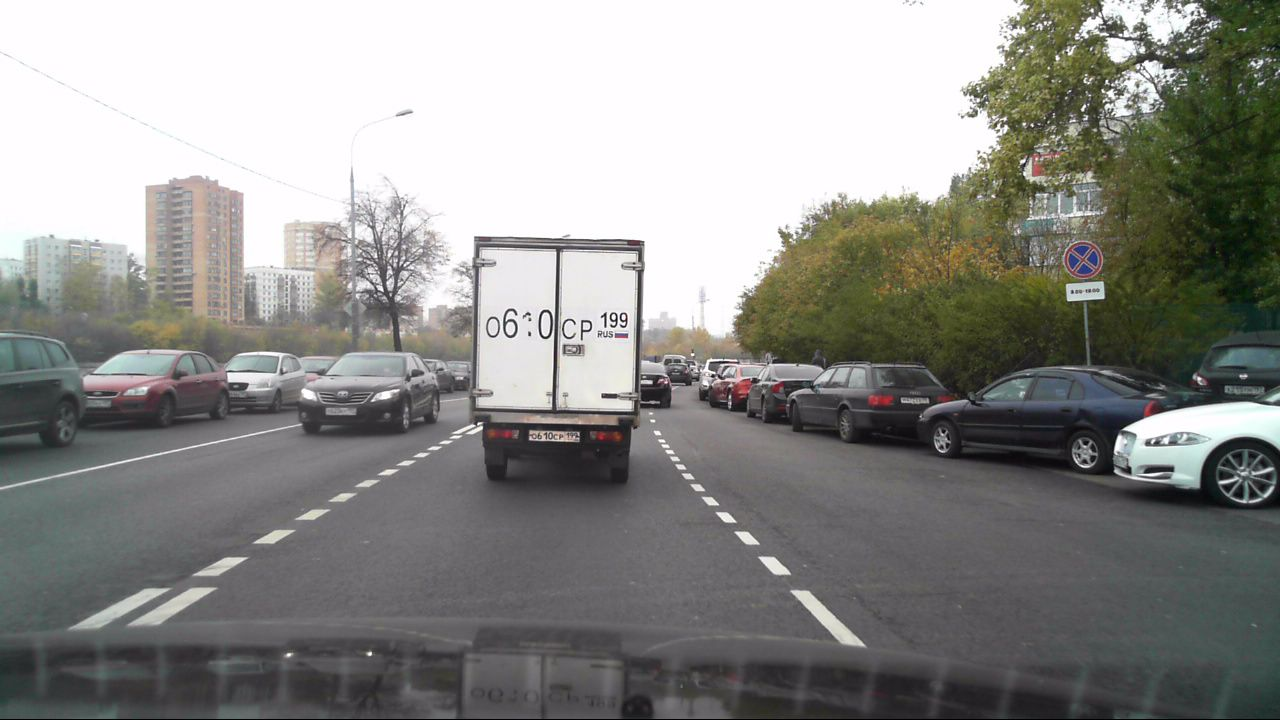No Parking: (1063, 239, 1102, 279)
